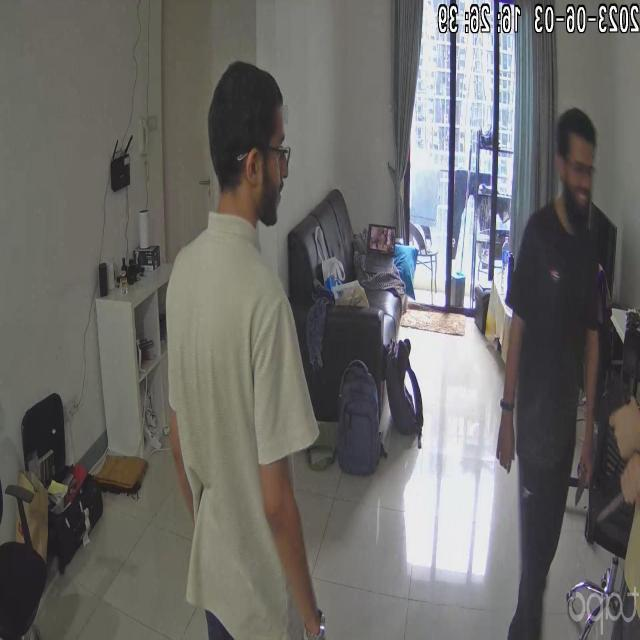Knife: (564, 448, 613, 522)
